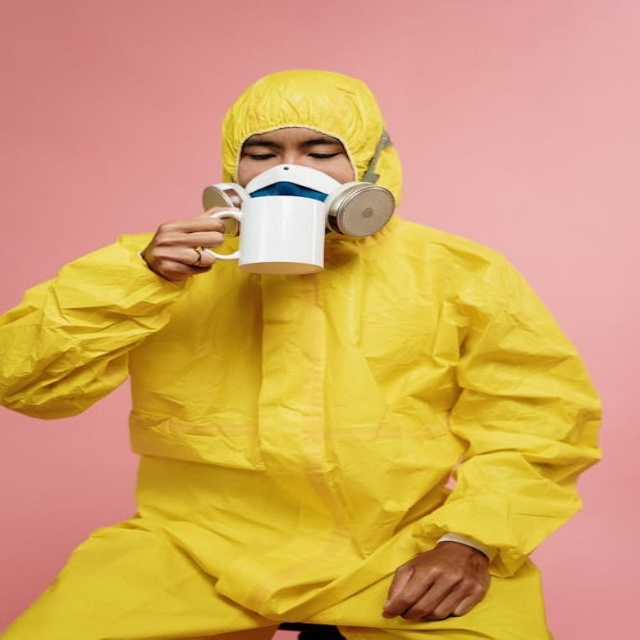Sin_gafas: (234, 134, 351, 168)
Sin_guantes: (380, 539, 490, 623), (127, 210, 233, 286)
Sin_mascara: (195, 158, 402, 247)
